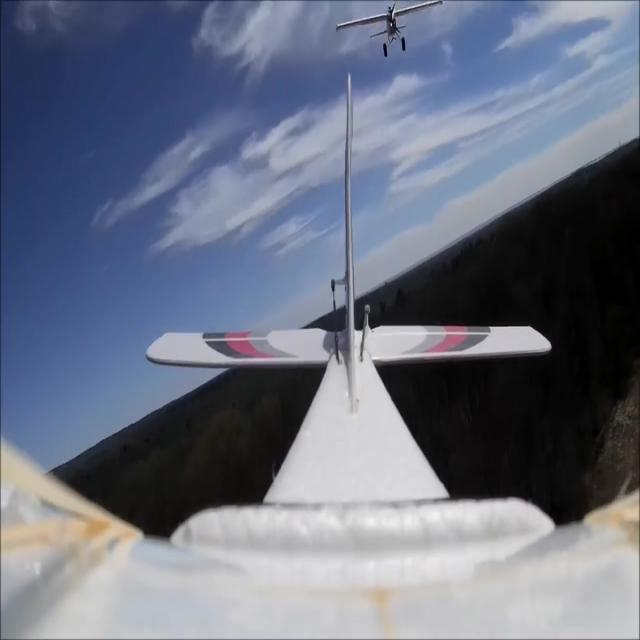iha: (367, 1, 412, 60)
